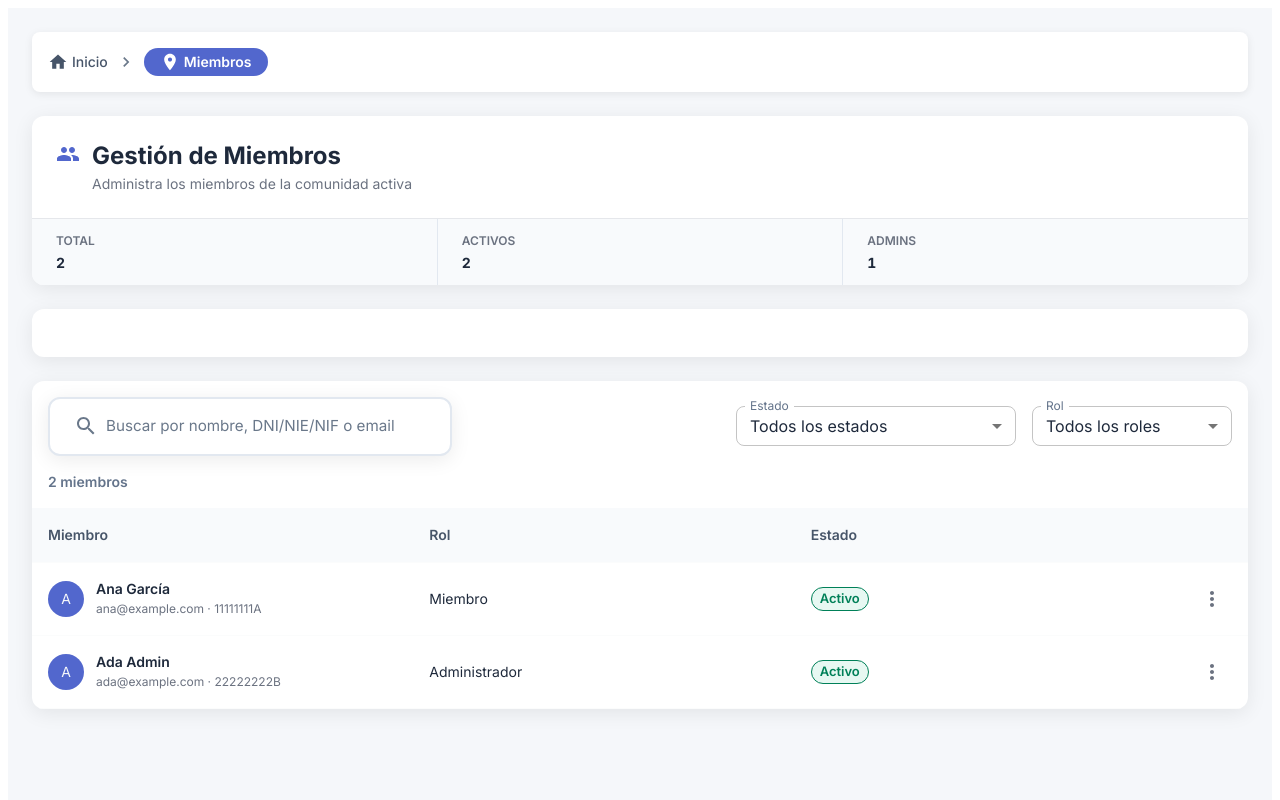
editing a member record › UI-MBR-002 sends the whole record and shows the new data once the roster refetches
Expected: the text "Ana García" is shown, [96,580,170,597]
Click the button named "Más acciones para Ana García": coordinates (1212, 599) [1195,582,1229,616]
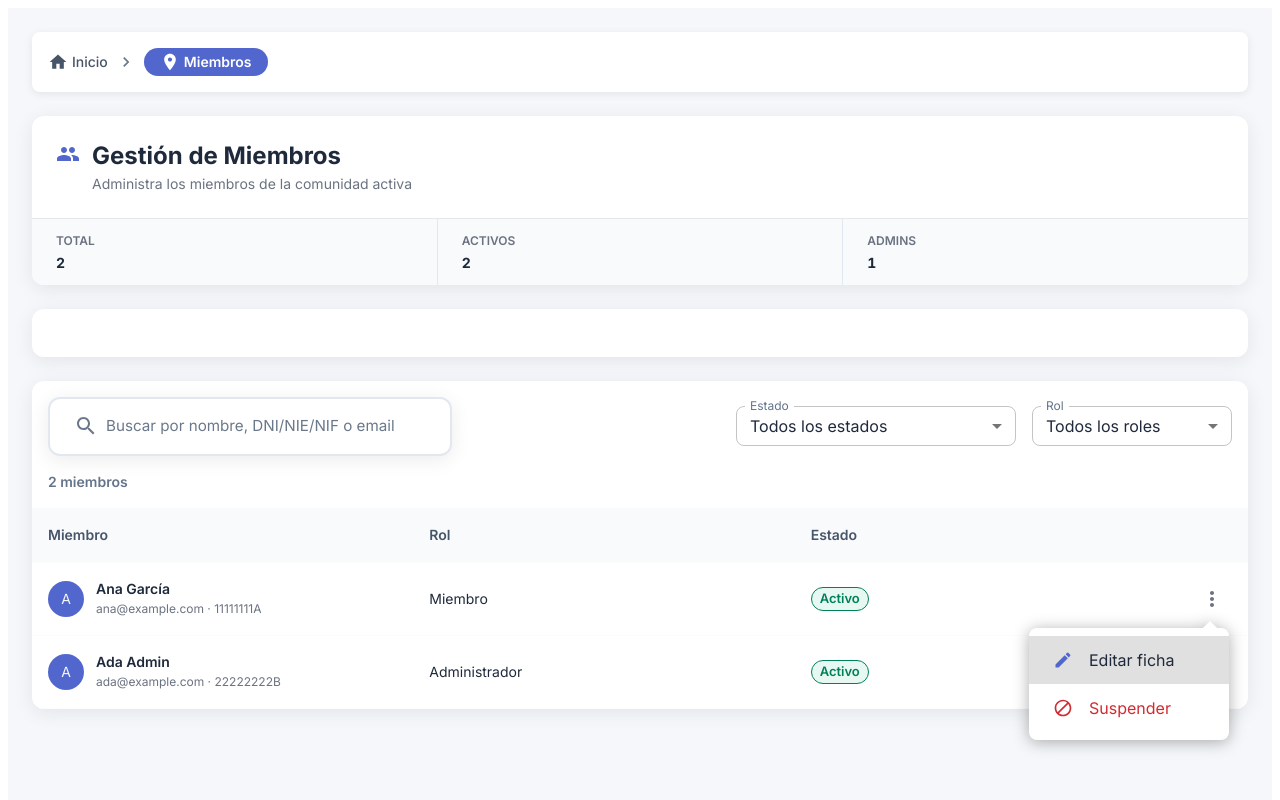
Click the menu item "Editar ficha": coordinates (1129, 660) [1029,636,1229,684]
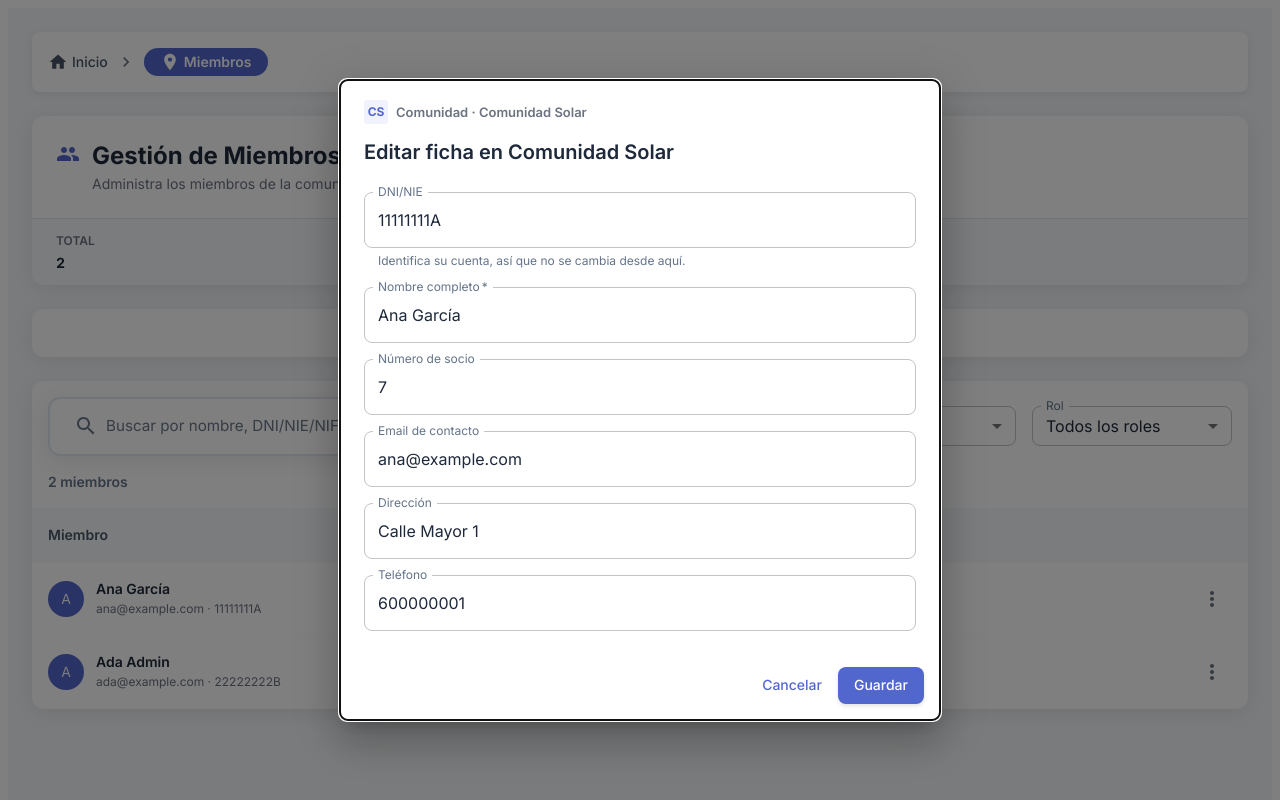
Replace the text in the field labelled "Nombre completo *" with "Ana García Pérez": coordinates (640, 315) [364,287,916,343]
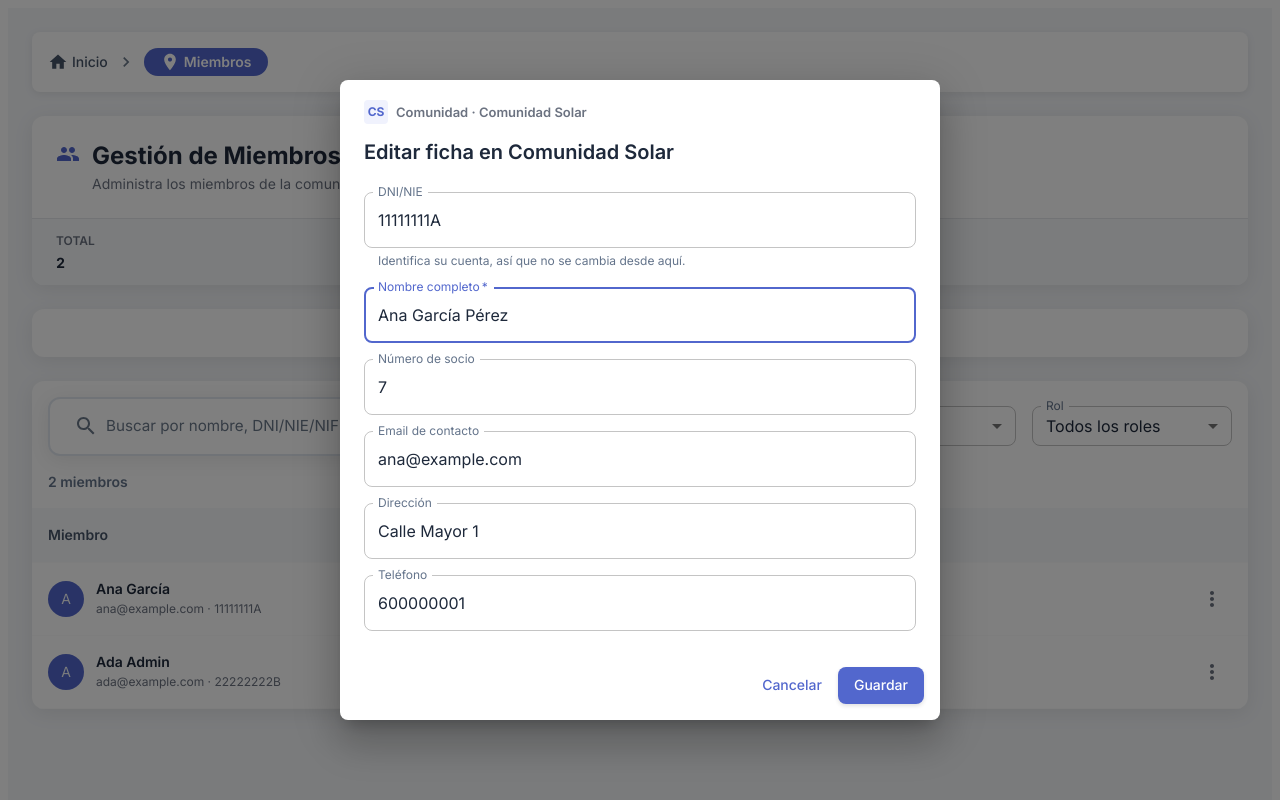
Clear the field labelled "Teléfono": coordinates (640, 603) [364,575,916,631]
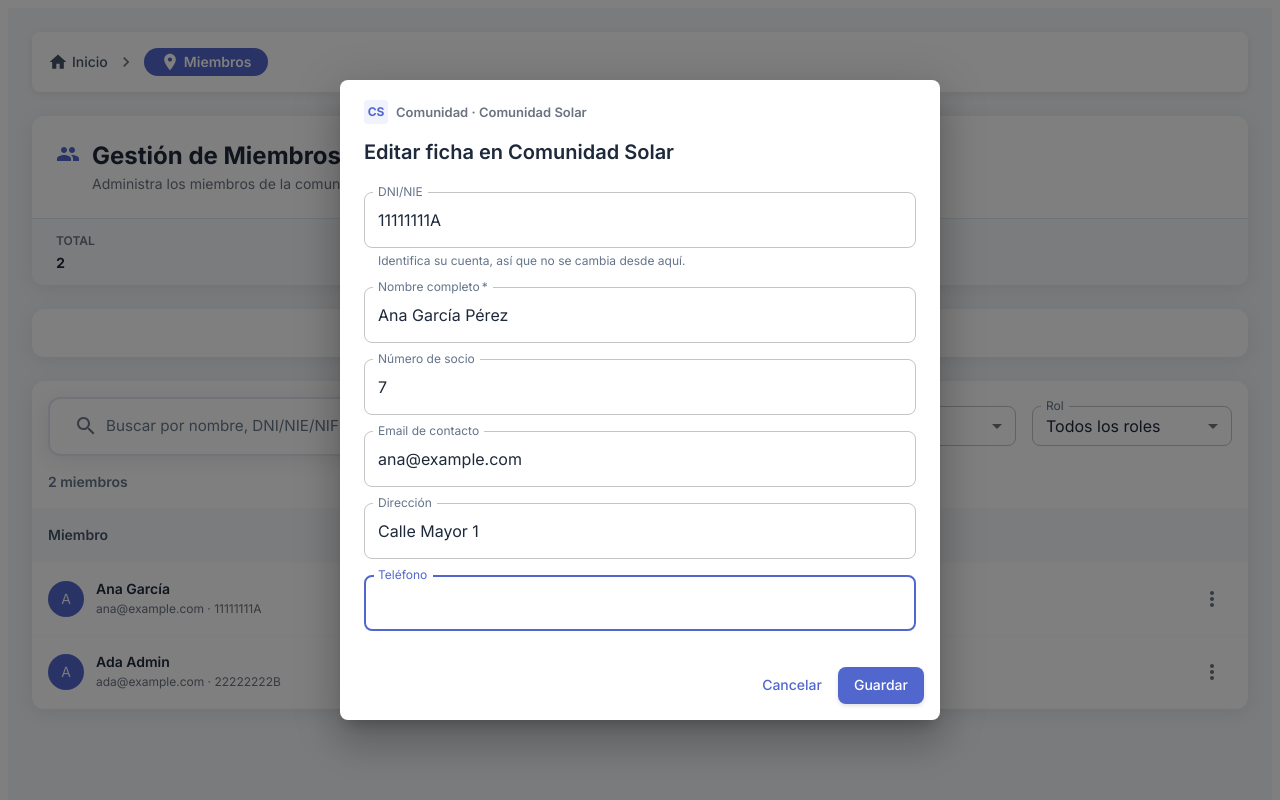
Click the button "Guardar": coordinates (881, 685) [838,667,924,704]
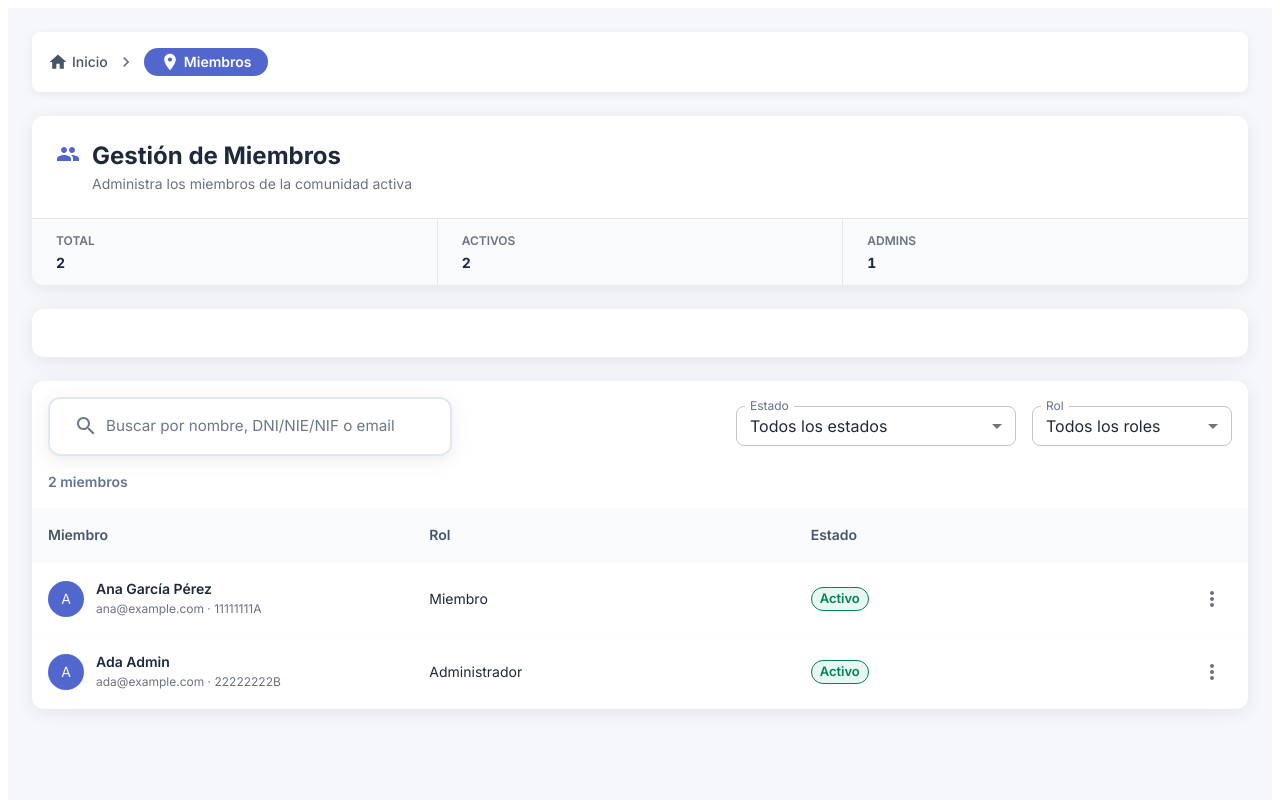
Expected: the dialog is gone
Expected: the text "Ana García Pérez" is shown, [96,580,212,597]
